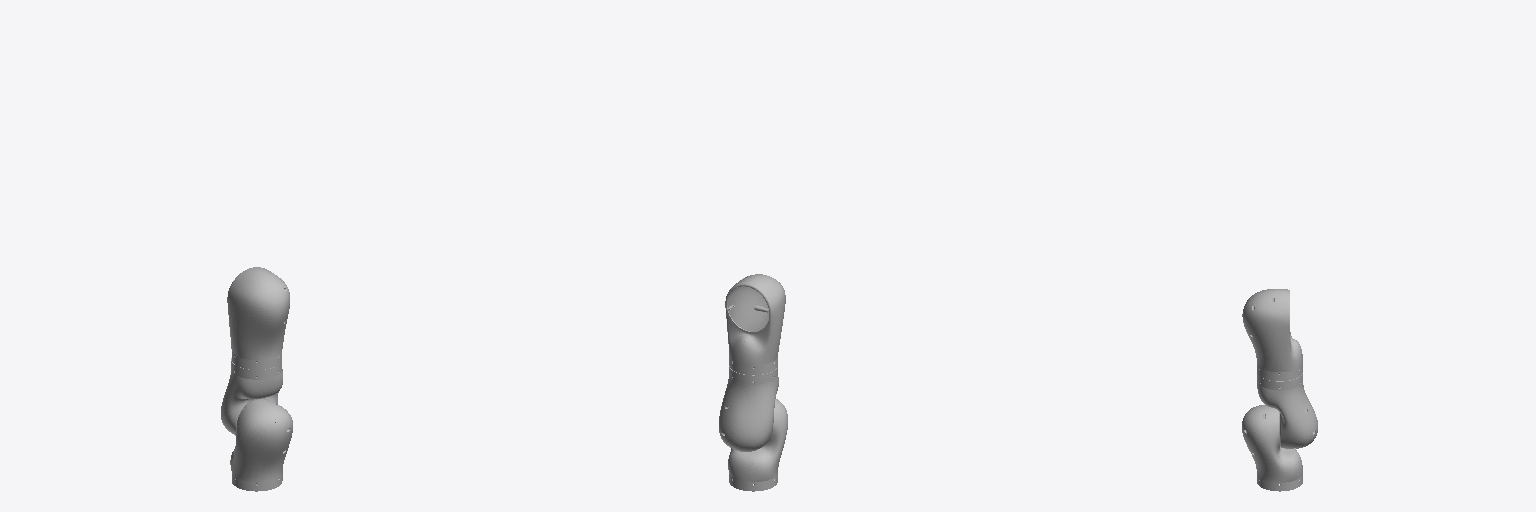
robot.urdf — sia_robot:
<?xml version="1.0" ?>
<!-- =================================================================================== -->
<!-- |    This document was autogenerated by xacro from sia_robot_visual.urdf.xacro    | -->
<!-- |    EDITING THIS FILE BY HAND IS NOT RECOMMENDED                                 | -->
<!-- =================================================================================== -->
<robot name="sia_robot" xmlns:xacro="http://ros.org/wiki/xacro">
  <!--link lenght used in this model for relative coordinate of joint-->
  <!-- link lengths used in model -->
  <!--<xacro:property name="shoulder_height" value="${sia_robot_d1}" />
  <xacro:property name="upper_arm_length" value="${-sia_robot_d2}" />
  <xacro:property name="forearm_length" value="${-sia_robot_d3}" />
  <xacro:property name="wrist_1_length" value="${sia_robot_d4 - 0.1 - 0.2}" />
  <xacro:property name="wrist_2_length" value="${sia_robot_d5}" />
  <xacro:property name="wrist_3_length" value="${sia_robot_d6}" />-->
  <!--world frame is the joint0 frame as default-->
  <link name="link1">
    <visual>
      <origin rpy="0 0 0" xyz="0 0 0.06"/>
      <geometry>
        <mesh filename="package://sia_arm_description/meshes/base_link.dae"/>
      </geometry>
    </visual>
  </link>
  <link name="link2">
    <visual>
      <origin rpy="0 0 0" xyz="0 0 -0.08082"/>
      <geometry>
        <mesh filename="package://sia_arm_description/meshes/shoulder_link.dae"/>
      </geometry>
    </visual>
  </link>
  <link name="link3">
    <visual>
      <origin rpy="-1.57079632679 0 -1.57079632679" xyz="0.32 0 0"/>
      <geometry>
        <mesh filename="package://sia_arm_description/meshes/upper_arm_link.dae"/>
      </geometry>
    </visual>
  </link>
  <link name="link4">
    <visual>
      <origin rpy="-1.57079632679 0 0" xyz="0 0.092452 0"/>
      <geometry>
        <mesh filename="package://sia_arm_description/meshes/forearm_link.dae"/>
      </geometry>
    </visual>
  </link>
  <link name="link5">
    <visual>
      <origin rpy="0 0 0" xyz=" 0 0 -0.08225"/>
      <geometry>
        <mesh filename="package://sia_arm_description/meshes/wrist_1_link.dae"/>
      </geometry>
    </visual>
  </link>
  <link name="link6">
    <visual>
      <origin rpy="-1.57079632679 0 0" xyz="0 0.0922655 0"/>
      <geometry>
        <mesh filename="package://sia_arm_description/meshes/wrist_2_link.dae"/>
      </geometry>
    </visual>
  </link>
  <link name="link7">
    <visual>
      <origin rpy="0 0 0" xyz="0 0 0.049435"/>
      <geometry>
        <mesh filename="package://sia_arm_description/meshes/wrist_3_link.dae"/>
      </geometry>
    </visual>
  </link>
  <joint name="joint1" type="revolute">
    <parent link="link1"/>
    <child link="link2"/>
    <!--<origin xyz="0 0 ${shoulder_height}" rpy="0 0 0" />-->
    <origin rpy="0 0 0" xyz="0 0 0.32625"/>
    <axis xyz="0 0 1"/>
    <!--<limit lower="${-pi}" upper="${pi}" effort="150.0" velocity="3.15"/>-->
    <limit effort="150.0" lower="-3.05432619099" upper="3.05432619099" velocity="3.15"/>
  </joint>
  <joint name="joint2" type="revolute">
    <parent link="link2"/>
    <child link="link3"/>
    <origin rpy="1.57079632679 -1.57079632679 0" xyz="0 0 0"/>
    <axis xyz="0 0 1"/>
    <limit effort="150.0" lower="-0.785398163397" upper="0.785398163397" velocity="3.15"/>
  </joint>
  <joint name="joint3" type="revolute">
    <parent link="link3"/>
    <child link="link4"/>
    <origin rpy="0 0 -1.57" xyz="0.64 0 0"/>
    <axis xyz="0 0 1"/>
    <limit effort="150.0" lower="-1.308996939" upper="1.308996939" velocity="3.15"/>
  </joint>
  <joint name="joint4" type="revolute">
    <parent link="link4"/>
    <child link="link5"/>
    <origin rpy="-1.57 0 0" xyz="0 0.184904 0"/>
    <axis xyz="0 0 1"/>
    <limit effort="28.0" lower="-3.05432619099" upper="3.05432619099" velocity="3.2"/>
  </joint>
  <joint name="joint5" type="revolute">
    <parent link="link5"/>
    <child link="link6"/>
    <origin rpy="1.57 0 0" xyz="0 0 0"/>
    <axis xyz="0 0 1"/>
    <limit effort="28.0" lower="-1.308996939" upper="1.308996939" velocity="3.2"/>
  </joint>
  <joint name="joint6" type="revolute">
    <parent link="link6"/>
    <child link="link7"/>
    <origin rpy="-1.57 0 0" xyz="0 0.184531 0"/>
    <axis xyz="0 0 1"/>
    <limit effort="28.0" lower="-3.05432619099" upper="3.05432619099" velocity="3.2"/>
  </joint>
  <link name="eef">
    <visual>
      <origin rpy="0 0 0" xyz="0 0 -0.1"/>
      <geometry>
        <cylinder length="0.2" radius="0.05"/>
      </geometry>
    </visual>
  </link>
  <joint name="joint7" type="fixed">
    <parent link="link7"/>
    <child link="eef"/>
    <origin rpy="0 0 0" xyz="0 0 0.29887"/>
    <axis xyz="0 0 1"/>
  </joint>
</robot>

--- What the picture shows (computed from the rendered views, not written in the file) ---
The picture shows the robot from 3 angles, left to right: view 1: azimuth 30°, elevation 25°; view 2: azimuth 150°, elevation 25°; view 3: azimuth 270°, elevation 25°; orthographic projection.
Model sia_robot with 8 links and 7 joints (6 revolute, 1 fixed), rooted at link1, posed all joints at 0.
Links seen in each view (by area): view 1: link4, link6, link5; view 2: link4, link5, link6; view 3: link4, link6, link5.
Boxes of the visible links, bbox=[...] form: link4: bbox=[227, 267, 289, 369]; link6: bbox=[230, 399, 292, 491]; link5: bbox=[221, 358, 282, 435]; link4: bbox=[725, 274, 785, 374]; link5: bbox=[719, 366, 778, 451]; link6: bbox=[728, 399, 787, 491]; link4: bbox=[1242, 289, 1302, 380]; link6: bbox=[1242, 405, 1302, 491]; link5: bbox=[1257, 373, 1317, 448].
Bounding box of the posed robot: 233 × 217 × 1374 m (x, y, z).
5 mesh visuals loaded from 7 distinct referenced files (5 Collada DAE); not drawn: 2 (reference not matched to a file when rendering).